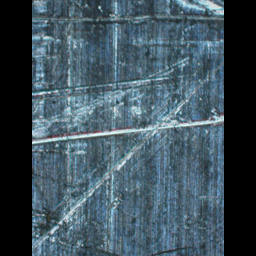d: (32, 109, 223, 158), (31, 179, 124, 256), (32, 71, 174, 102), (32, 11, 223, 34)
